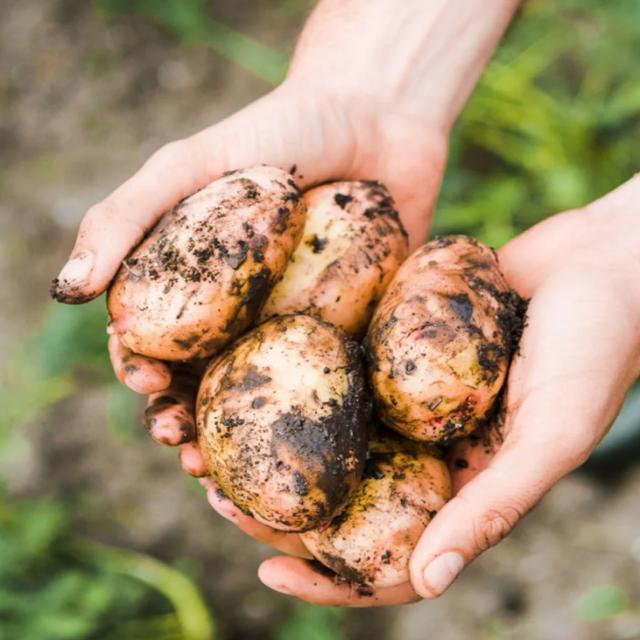potato: (110, 168, 303, 363), (201, 319, 373, 530), (374, 236, 522, 442), (264, 183, 408, 335), (303, 442, 445, 595)
